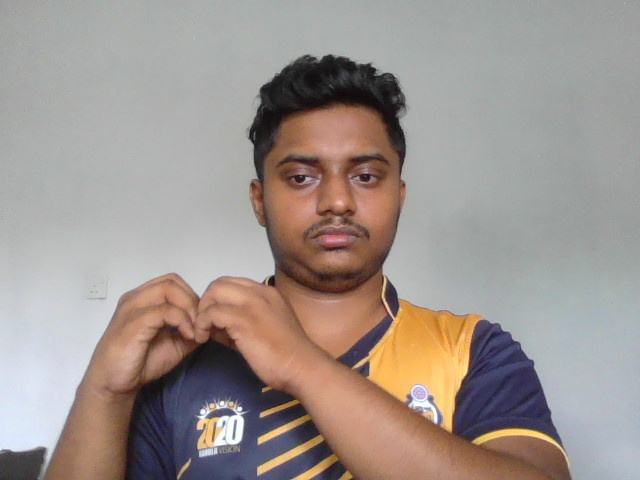More: (92, 270, 307, 398)
